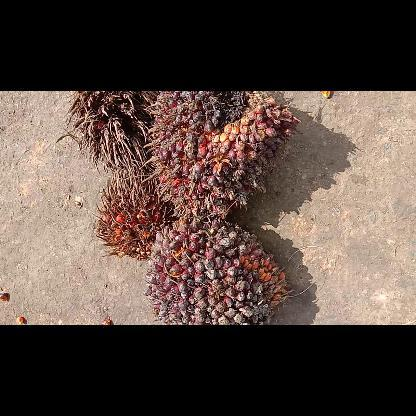Janjang kosong: (61, 91, 160, 174)
Kurang masak: (143, 218, 295, 324)
TBS masak: (140, 91, 302, 221)
Terlalu masak: (92, 166, 170, 262)
